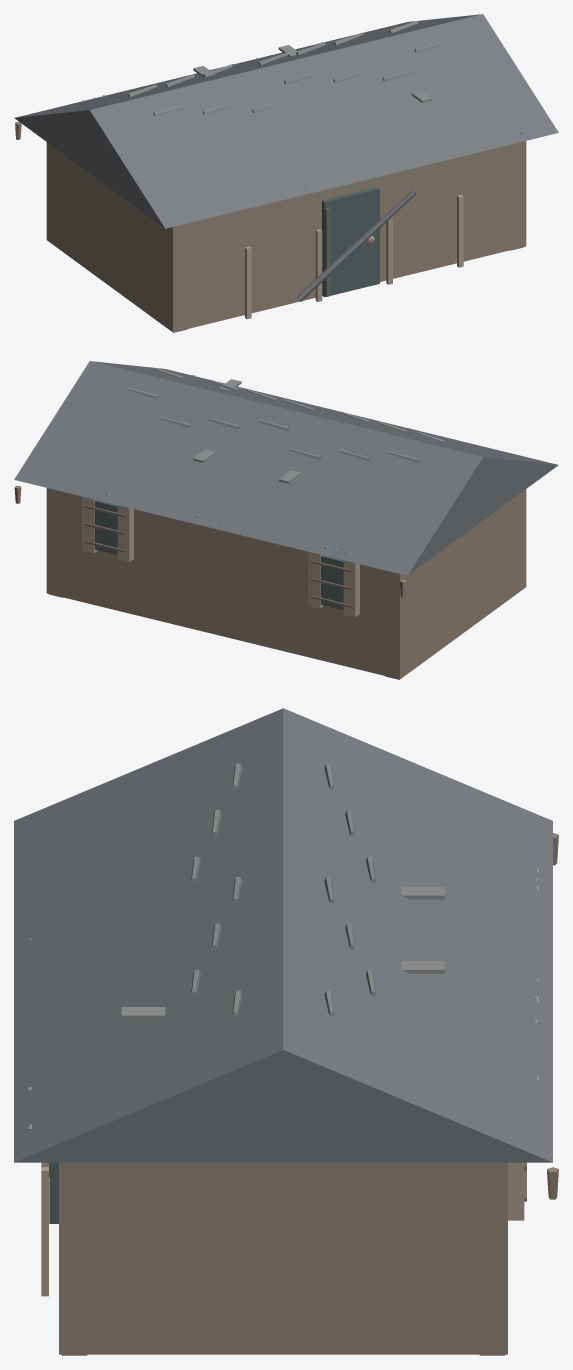
Rendered from burned_coach_stable.glb.
3 views of the same model, one above another, from view 1: azimuth 30°, elevation 25°; view 2: azimuth 150°, elevation 25°; view 3: azimuth 270°, elevation 25° (orthographic). The views are drawn at different scales.
Visible parts, largest first — view 1: burned_coach_stable_material_06, burned_coach_stable_material_00, burned_coach_stable_material_02, burned_coach_stable_material_05, burned_coach_stable_material_03, burned_coach_stable_material_08, burned_coach_stable_material_07; view 2: burned_coach_stable_material_06, burned_coach_stable_material_00, burned_coach_stable_material_05, burned_coach_stable_material_02, burned_coach_stable_material_07, burned_coach_stable_material_08, burned_coach_stable_material_01; view 3: burned_coach_stable_material_06, burned_coach_stable_material_00, burned_coach_stable_material_07, burned_coach_stable_material_05, burned_coach_stable_material_08.
Boxes of the visible parts, box(x1,y1,x2,y2) form: burned_coach_stable_material_06: box(14, 14, 558, 228); burned_coach_stable_material_00: box(15, 122, 526, 332); burned_coach_stable_material_02: box(322, 187, 379, 297); burned_coach_stable_material_05: box(245, 194, 463, 319); burned_coach_stable_material_03: box(296, 190, 416, 301); burned_coach_stable_material_08: box(165, 42, 413, 113); burned_coach_stable_material_07: box(82, 32, 524, 187); burned_coach_stable_material_06: box(14, 361, 558, 575); burned_coach_stable_material_00: box(14, 485, 526, 679); burned_coach_stable_material_05: box(82, 496, 359, 617); burned_coach_stable_material_02: box(94, 500, 343, 609); burned_coach_stable_material_07: box(106, 368, 419, 553); burned_coach_stable_material_08: box(208, 379, 370, 461); burned_coach_stable_material_01: box(49, 505, 399, 679); burned_coach_stable_material_06: box(14, 708, 552, 1162); burned_coach_stable_material_00: box(59, 833, 558, 1354); burned_coach_stable_material_07: box(27, 763, 539, 1129); burned_coach_stable_material_05: box(41, 1162, 524, 1296); burned_coach_stable_material_08: box(191, 810, 375, 996).
Size of the model in its own units: 4.68 by 2.07 by 3.16.
